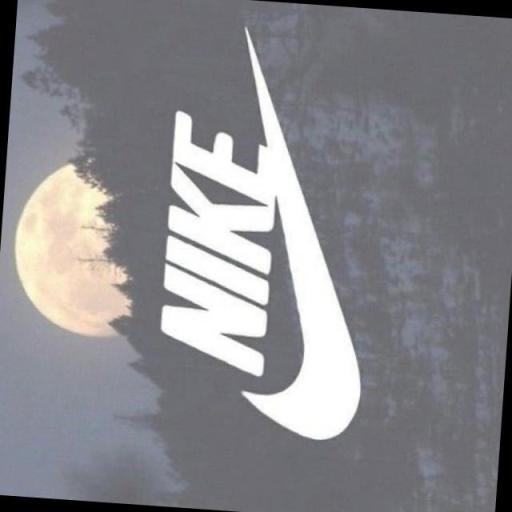Nike: (210, 20, 388, 446), (156, 105, 287, 376)
